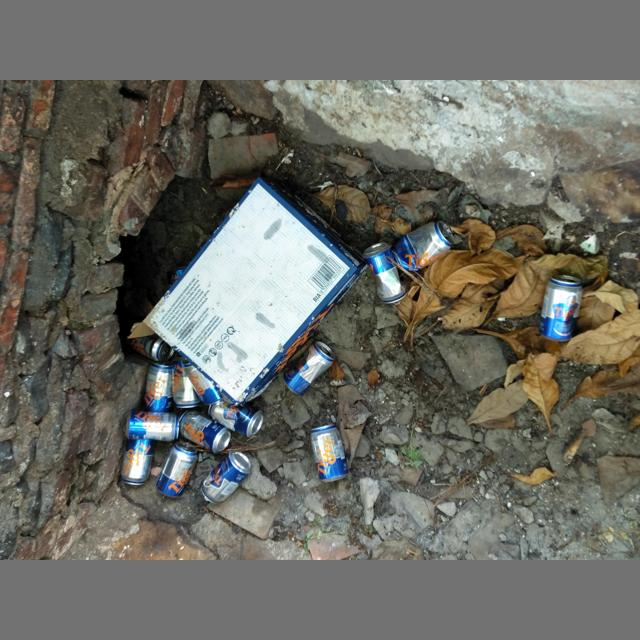litter: (129, 177, 369, 406), (392, 219, 455, 272), (538, 275, 583, 342), (283, 341, 336, 396), (363, 243, 407, 304), (201, 451, 251, 504), (156, 442, 198, 497), (310, 424, 349, 483), (209, 395, 263, 437), (180, 410, 232, 453), (183, 363, 224, 405), (125, 411, 179, 441), (142, 361, 173, 412), (120, 440, 155, 485), (172, 357, 201, 408), (135, 337, 174, 362), (443, 227, 452, 237), (183, 444, 190, 450), (321, 348, 327, 352), (394, 301, 400, 305)
